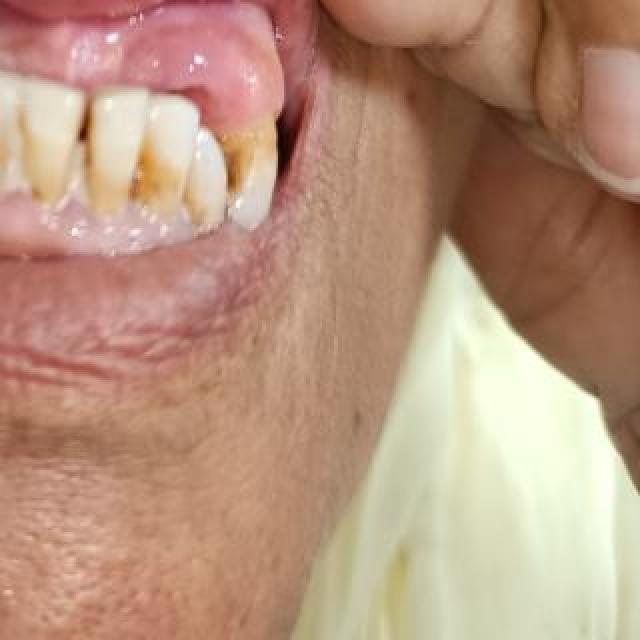missing: (21, 14, 69, 94), (77, 18, 121, 104), (164, 18, 194, 112), (123, 37, 157, 109), (203, 37, 231, 113), (0, 28, 28, 98)
plaque: (49, 125, 99, 215), (0, 134, 32, 202), (175, 178, 209, 242)
spacing: (70, 92, 100, 172)
stains: (81, 113, 131, 223), (24, 130, 74, 224), (219, 129, 269, 209), (137, 137, 185, 219), (0, 116, 4, 192)
